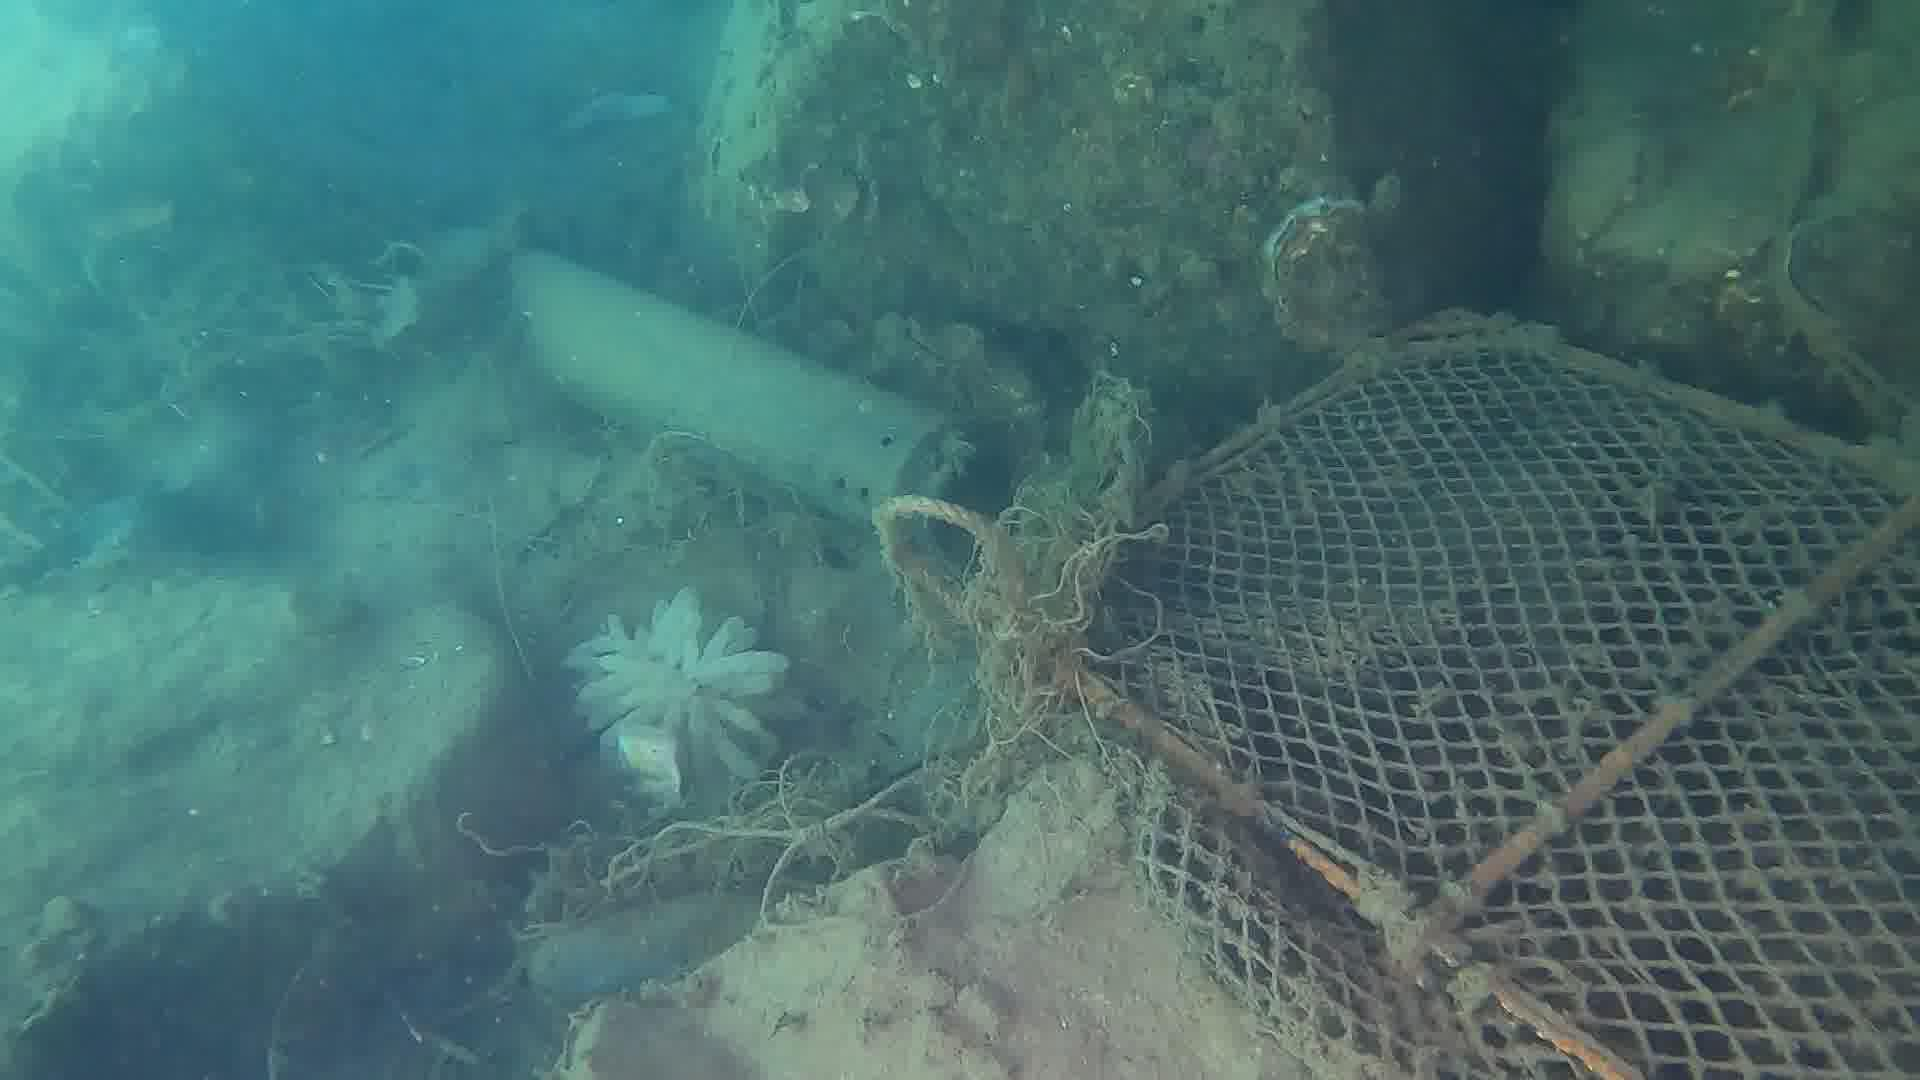eel fish trap: (480, 237, 972, 556)
rectangular fish trap: (1036, 298, 1920, 1080)
rope: (872, 489, 1022, 628)
